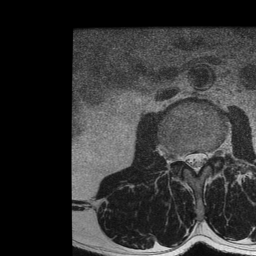CCS_normal: (192, 145, 200, 180)
LFS_normal: (208, 141, 216, 165)
LLS_normal: (200, 145, 208, 171)
RFS_normal: (174, 143, 183, 168)
RLS_normal: (184, 145, 192, 172)
